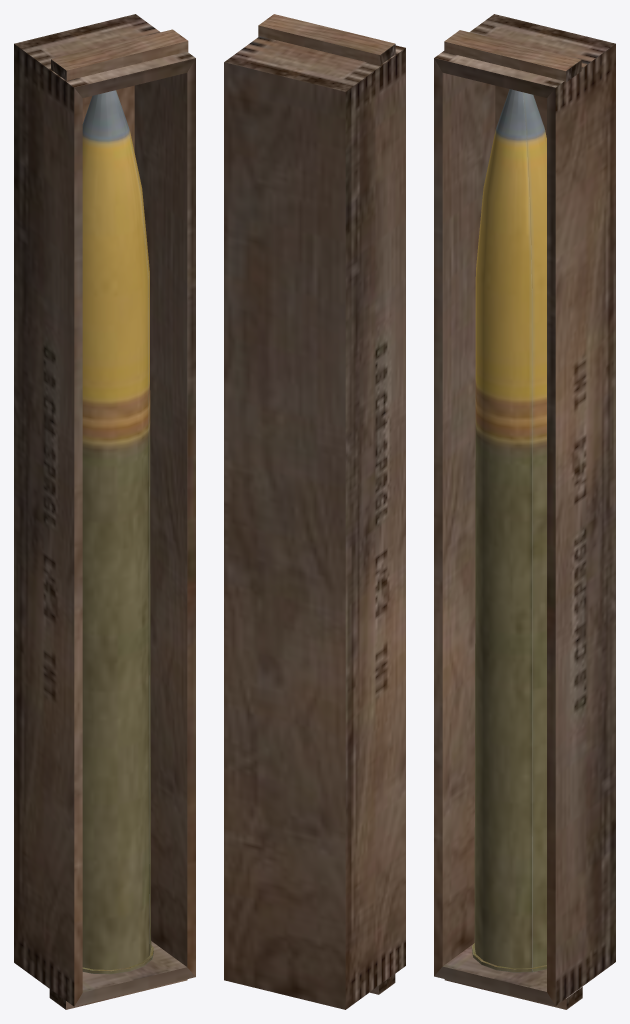
The model's file is military_flak88_box_open.glb.
3 renders of one model, left to right at view 1: azimuth 30°, elevation 25°; view 2: azimuth 150°, elevation 25°; view 3: azimuth 330°, elevation 25°, orthographic.
Size of the model in its own units: 5.58 by 40.7 by 4.73.
2 materials, 2 textured.
